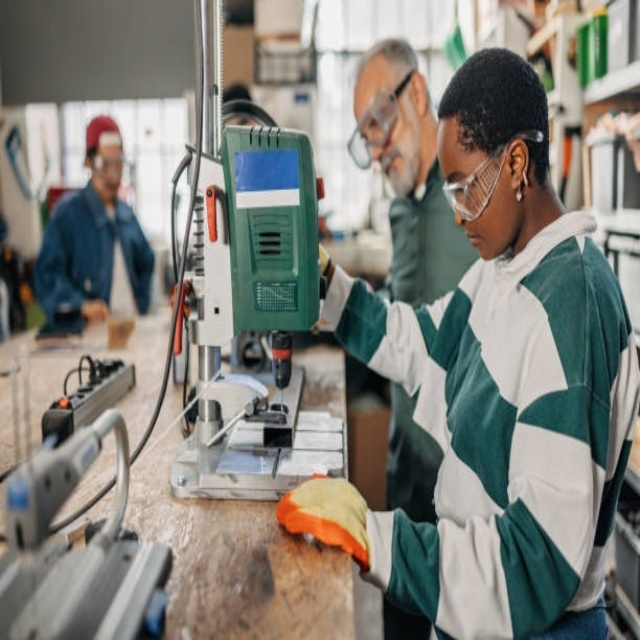Gafas: (442, 131, 539, 223), (348, 70, 415, 169), (90, 154, 126, 172)
Guantes: (274, 463, 366, 565)
Sin_guantes: (83, 293, 111, 323)
Sin_mascara: (460, 226, 489, 260), (382, 152, 407, 190)
